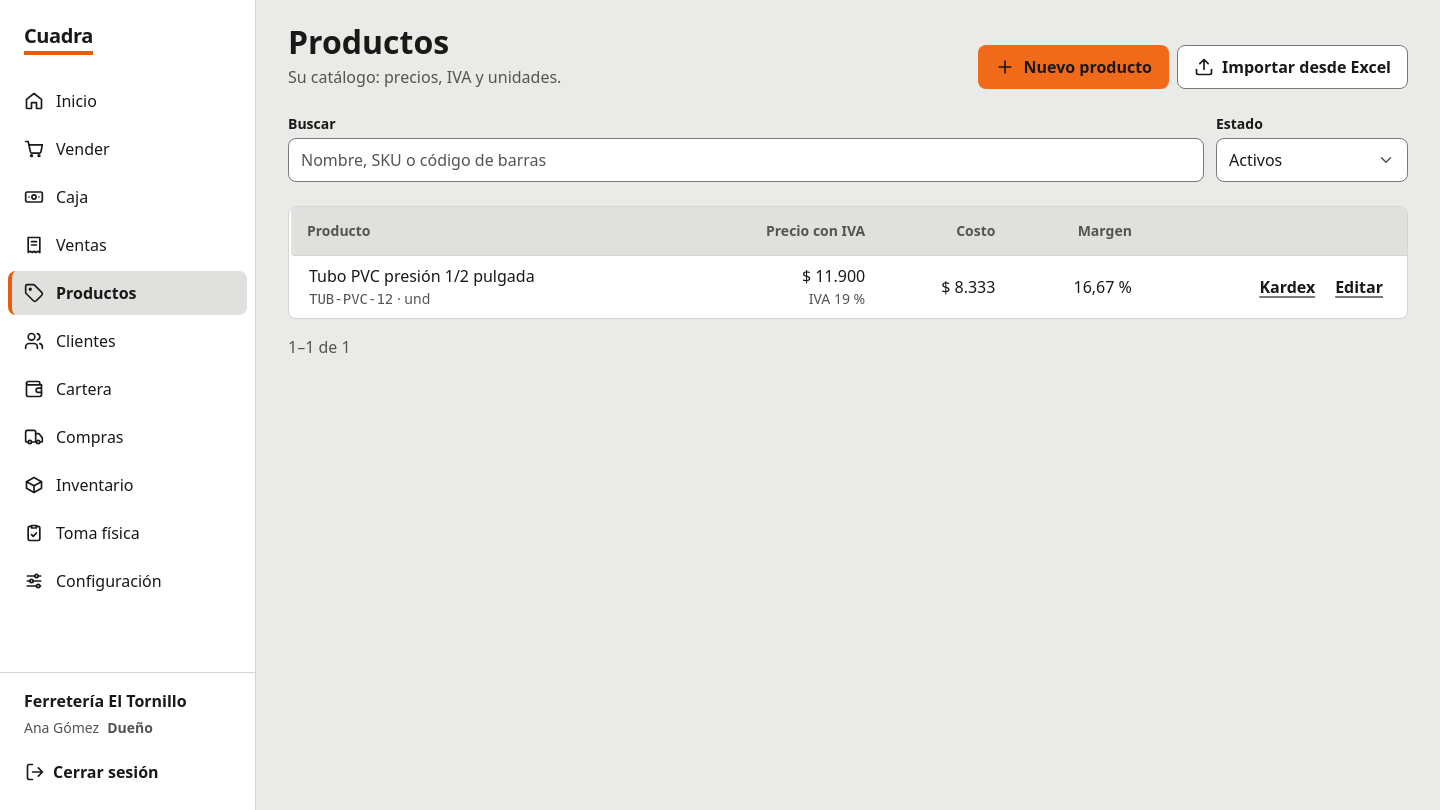
Test: ProductListPage › muestra el estado vacío cuando la búsqueda no encuentra nada
Type "martillo" into the search field labelled "Buscar" at (746, 160), box [288, 138, 1204, 182]
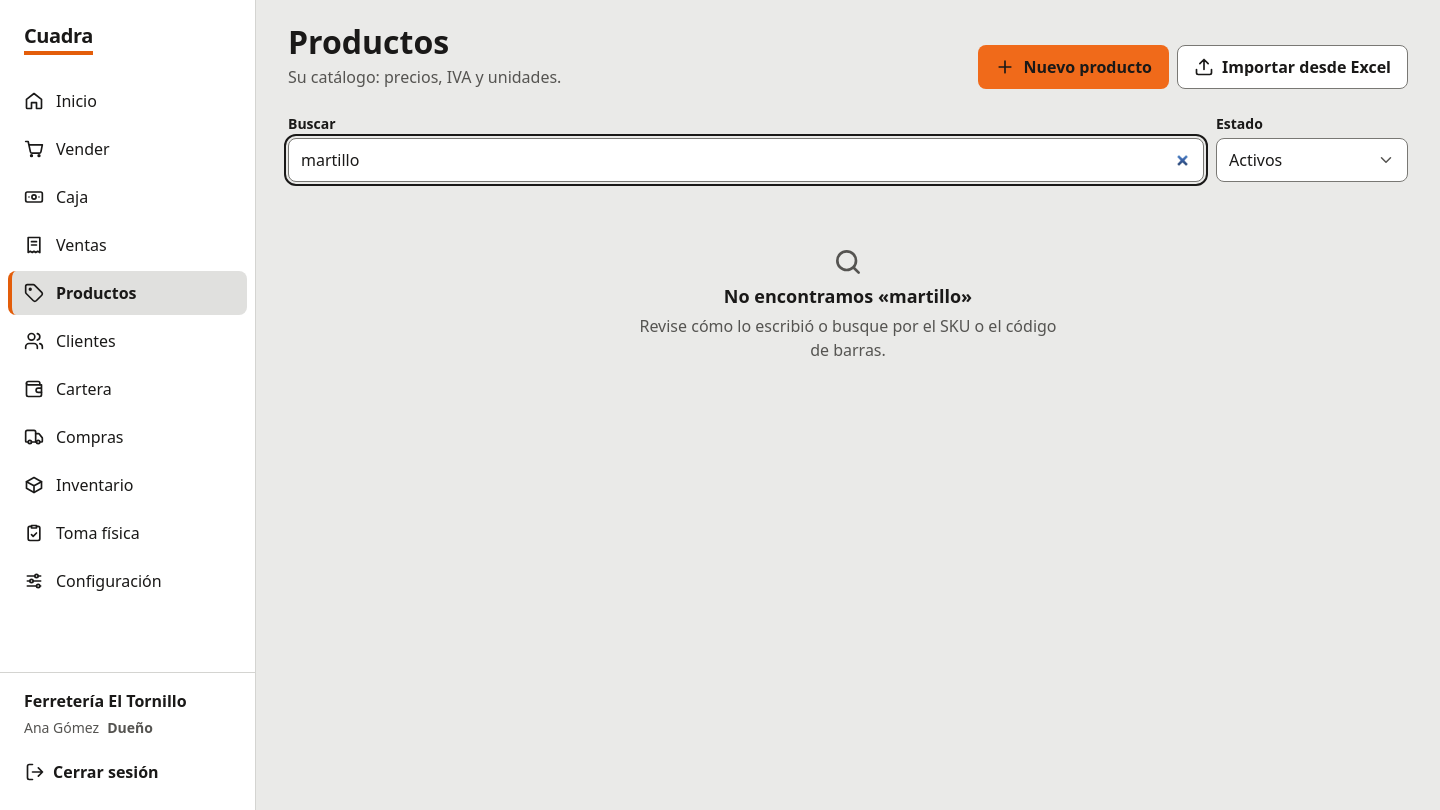
Expected: the heading "No encontramos «martillo»" is shown, [724, 286, 972, 306]
Expected: the table is gone
